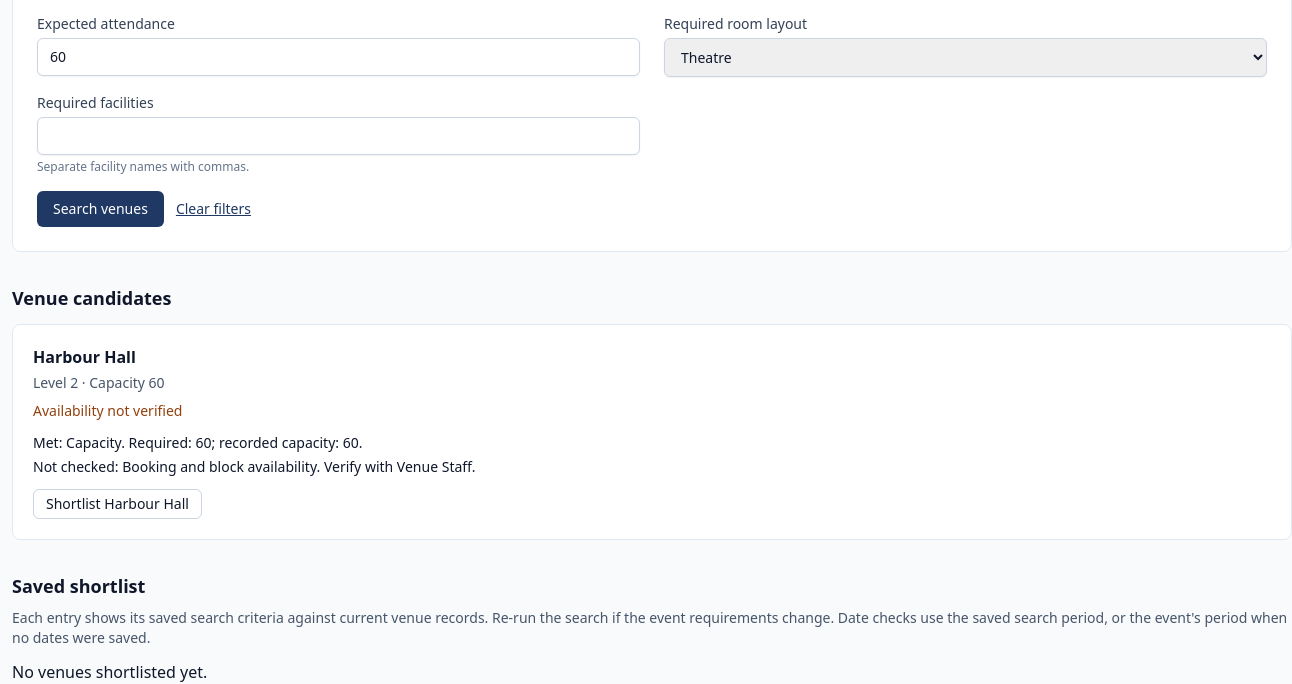
Test: SCRUM-64/68 venue discovery › failed additions retain the shortlist and do not claim success
(page scrolled)
Click the button "Shortlist Harbour Hall" at (117, 504), box top-left (33, 489), bottom-right (202, 519)
(page scrolled)
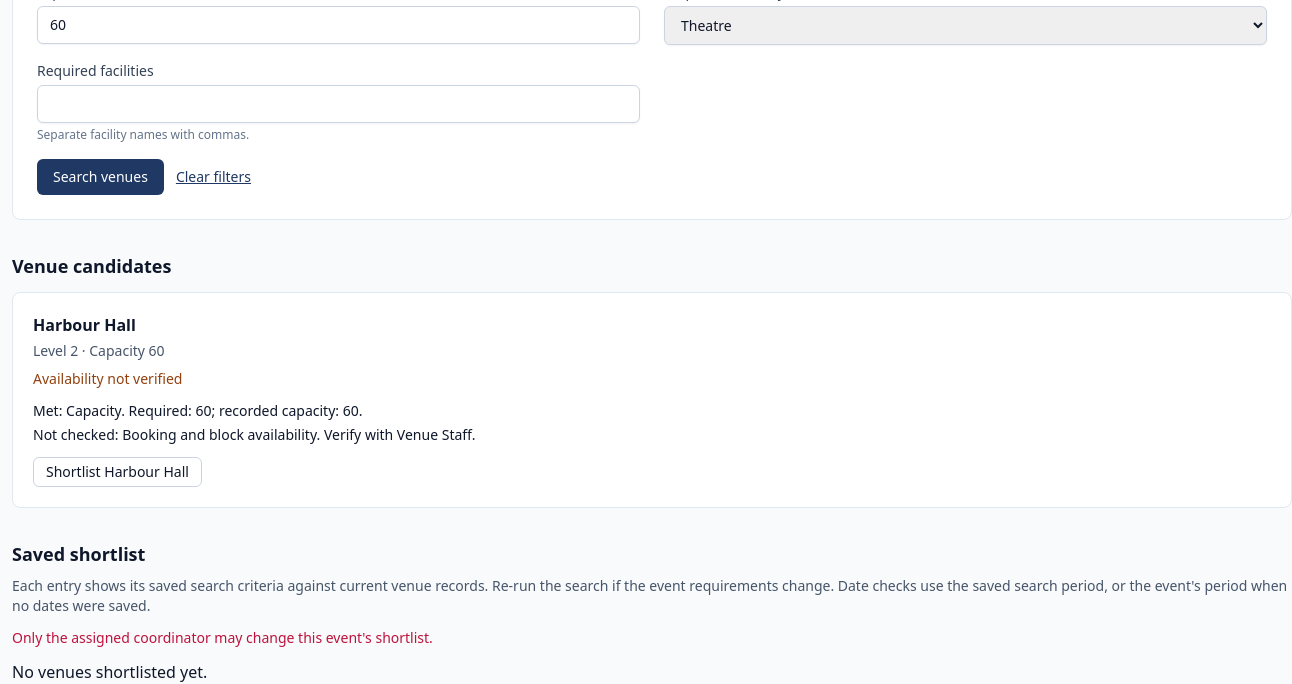
Expected: the text "No venues shortlisted yet." is shown, top-left (12, 661), bottom-right (207, 683)
Now the message shows "Only the assigned coordinator", box top-left (12, 628), bottom-right (433, 647)
